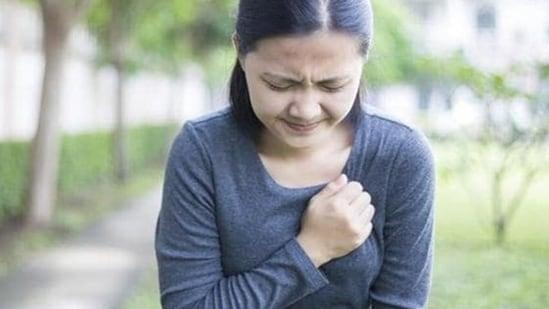pain: (253, 67, 357, 97)
